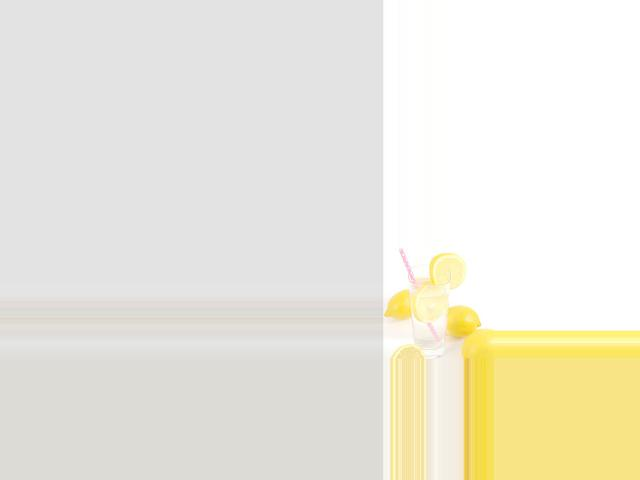lemon: (385, 288, 419, 323)
